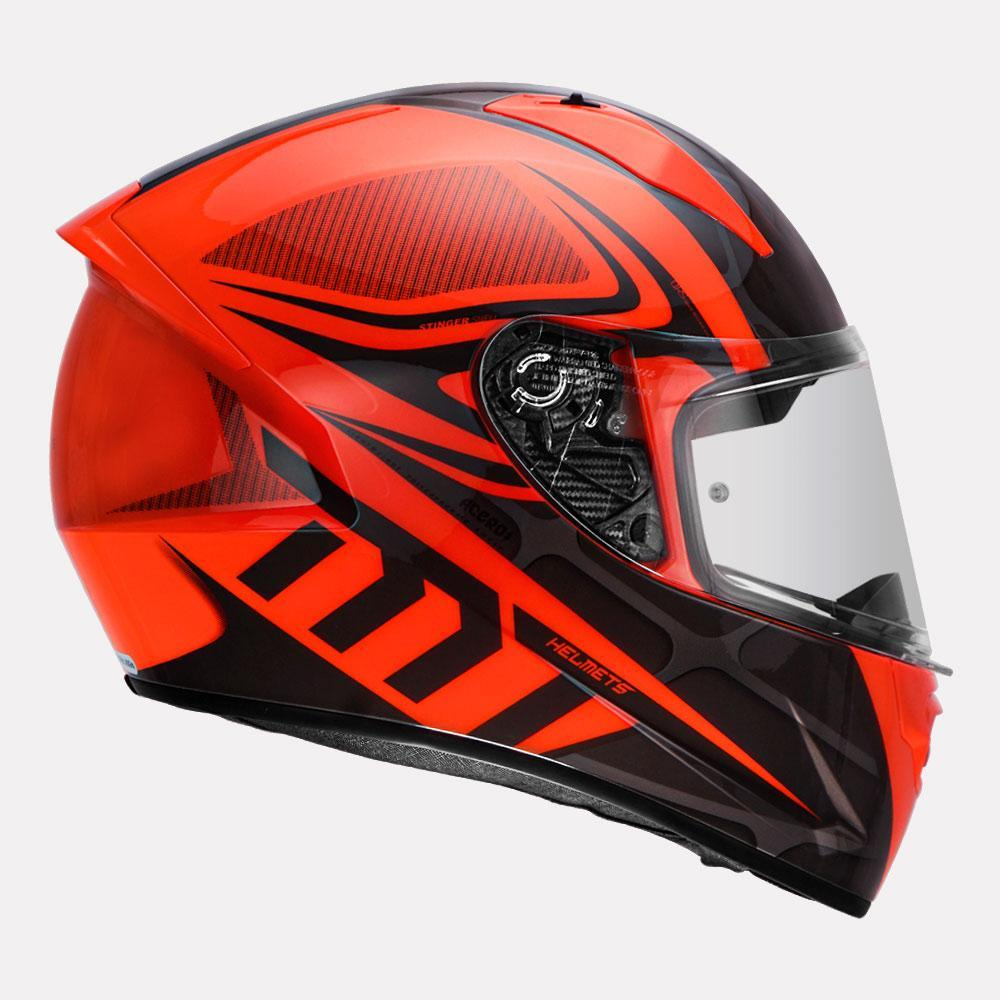helmet: (40, 52, 970, 951)
